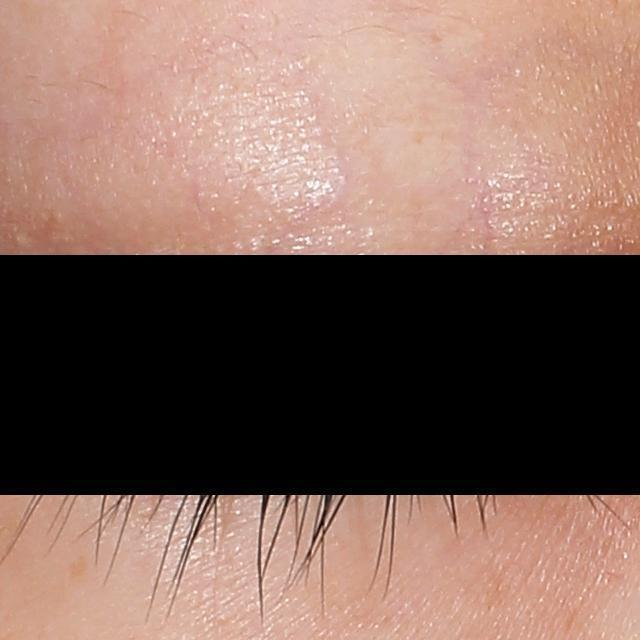melasma: (67, 553, 89, 583)
